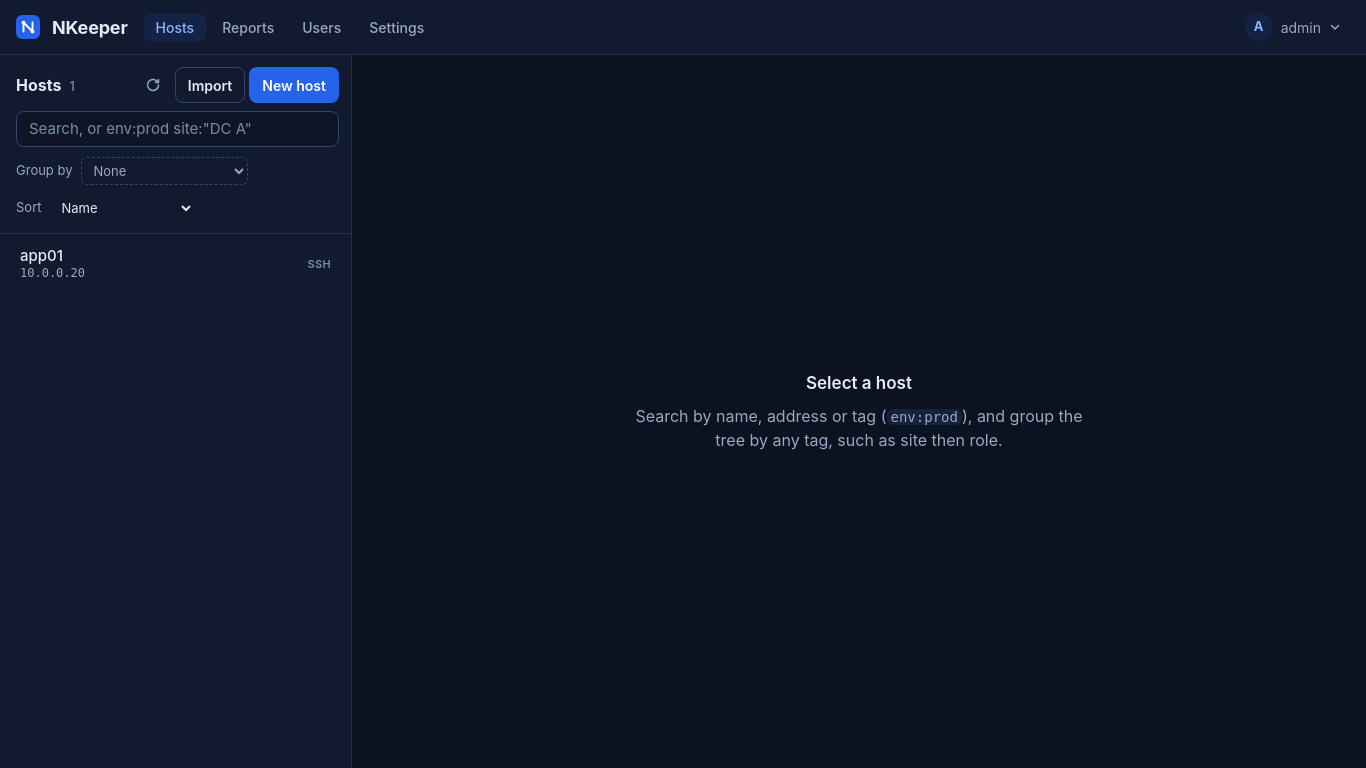
Test: storage (iSCSI, multipath, DRBD) › brings a DRBD resource up straight away, and says when no storage tools are installed
Right-click the button "app01 10.0.0.20 SSH" at (41, 256), box [8,242,343,286]
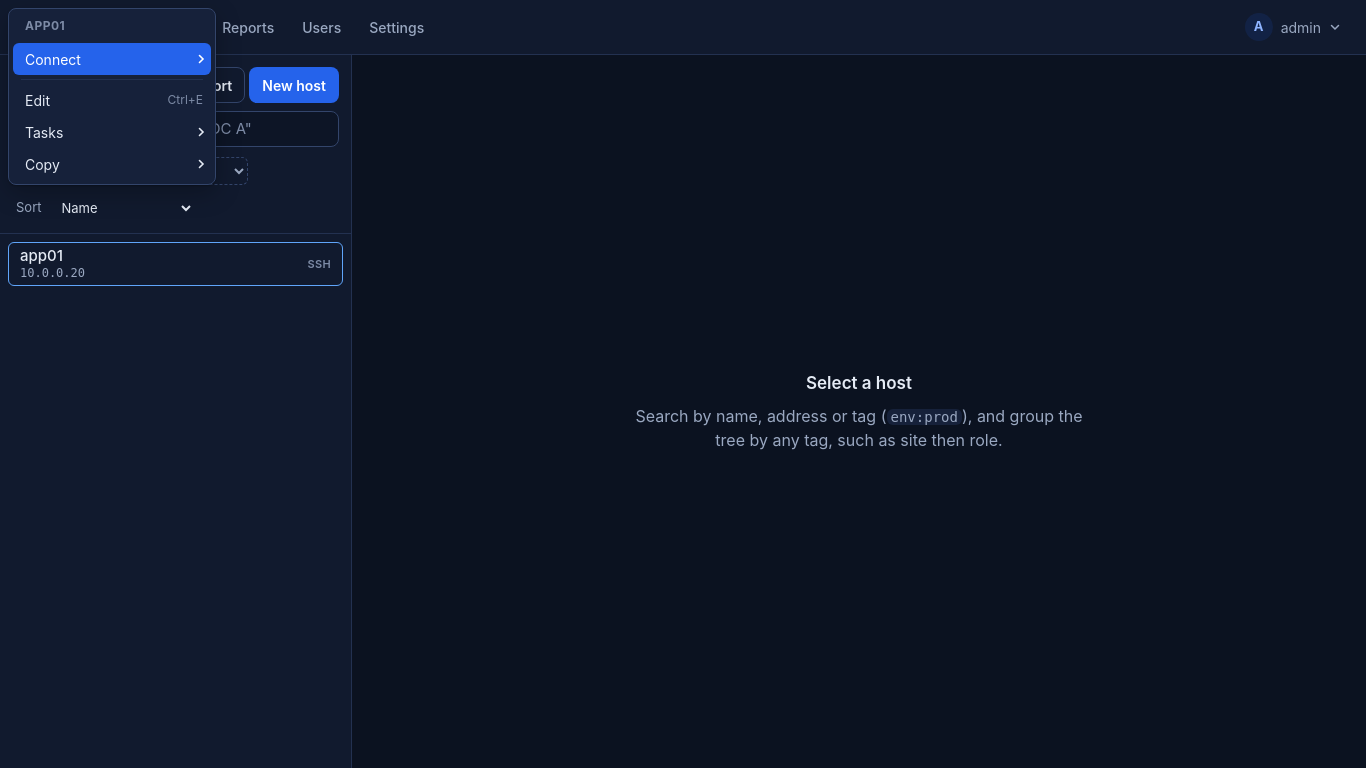
Hover over the menu item "Connect" at (112, 59), box [13,43,211,75]
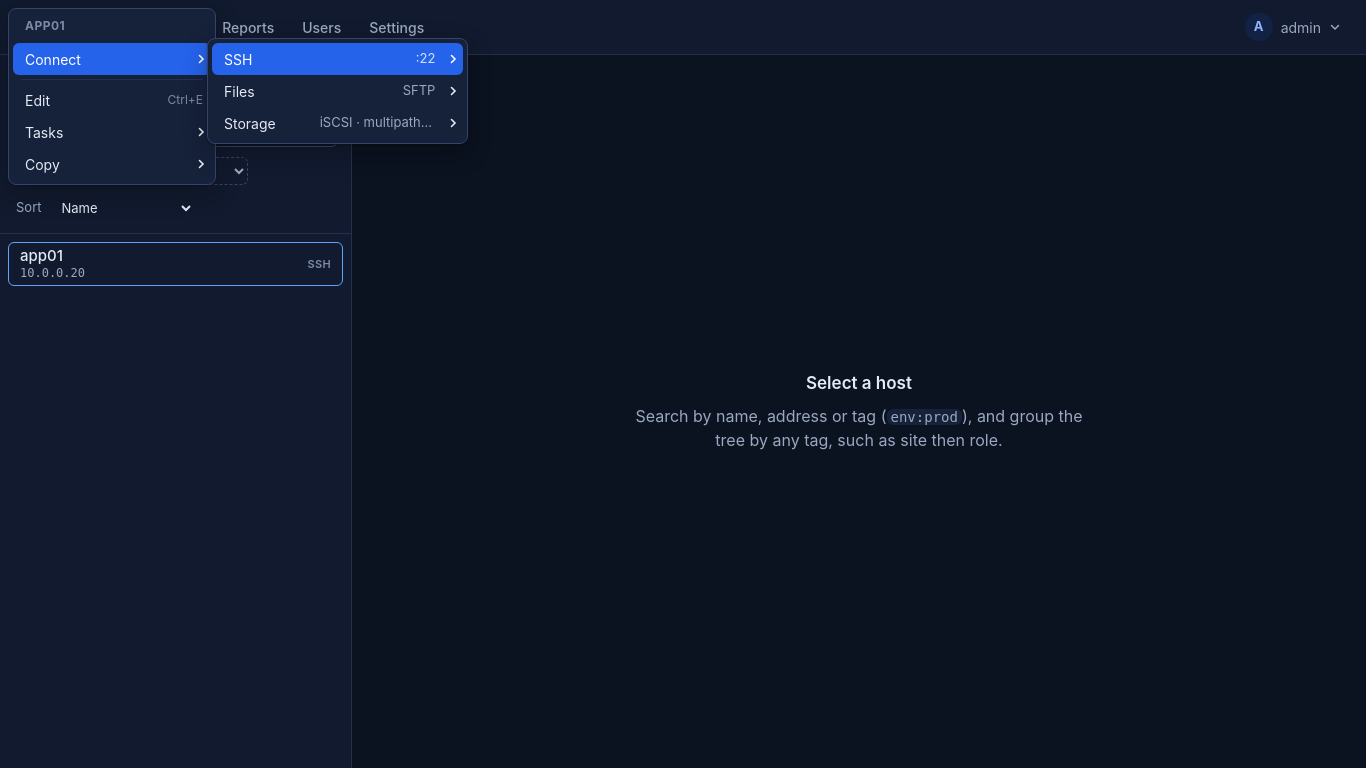
Hover over the menu item "Storage iSCSI · multipath · DRBD" at (338, 123), box [212,107,463,139]
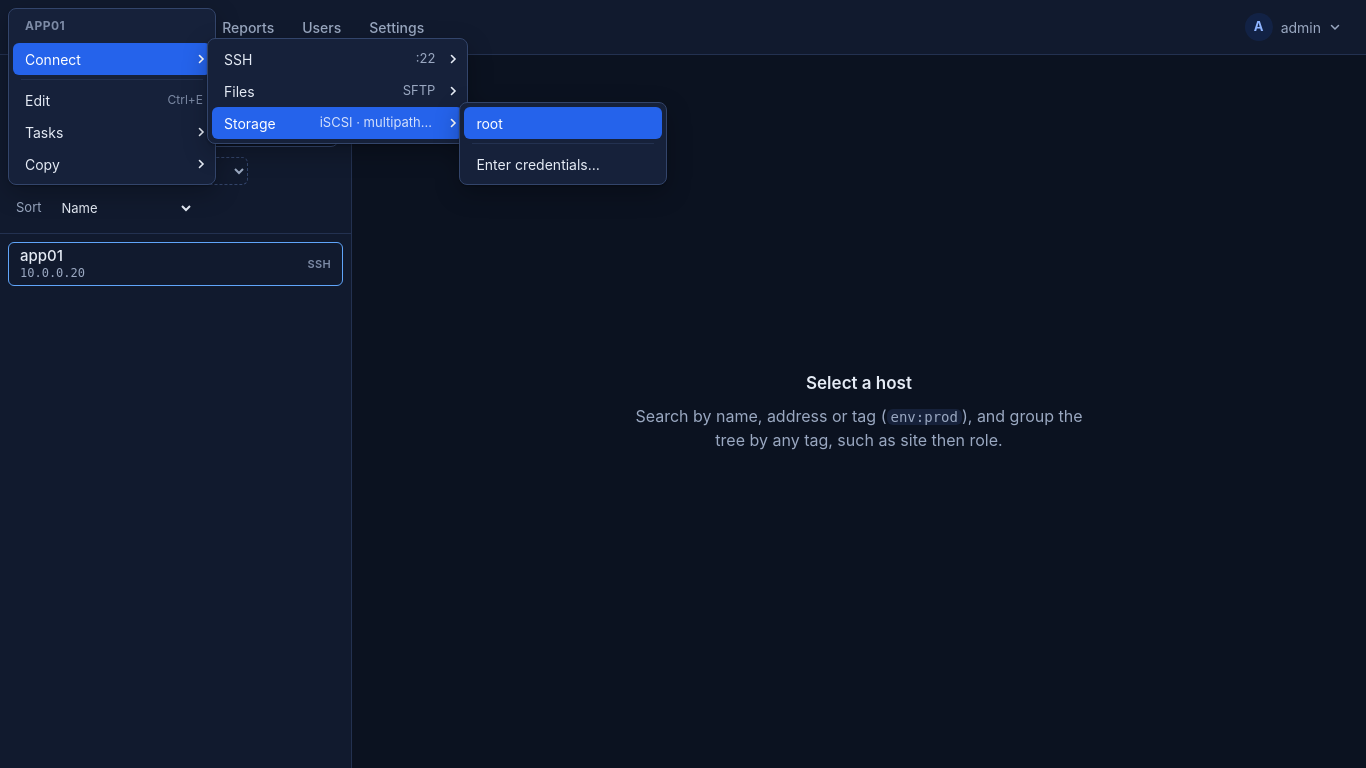
Click the menu item "root" at (563, 123), box [464,107,662,139]
(page scrolled)
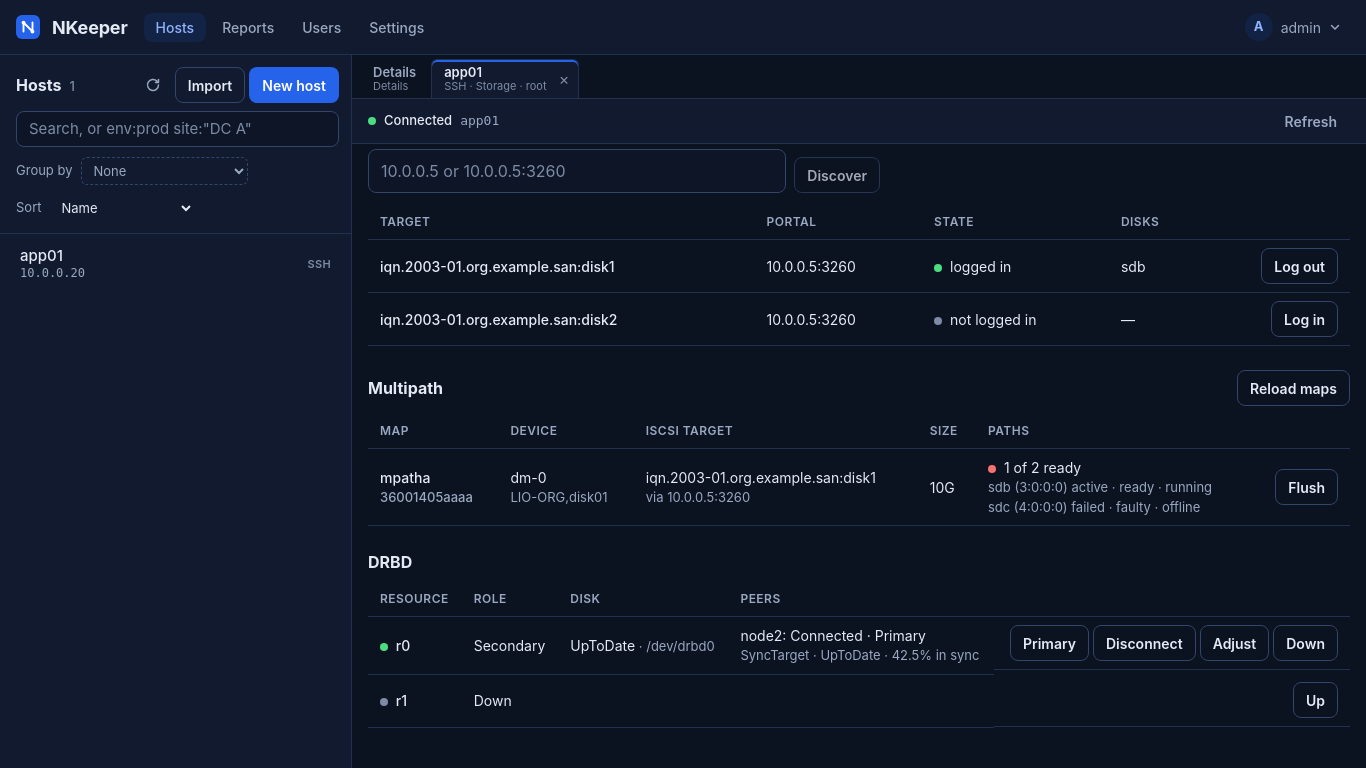
Click the button "Up" at (1316, 700), box [1293,682,1338,718]
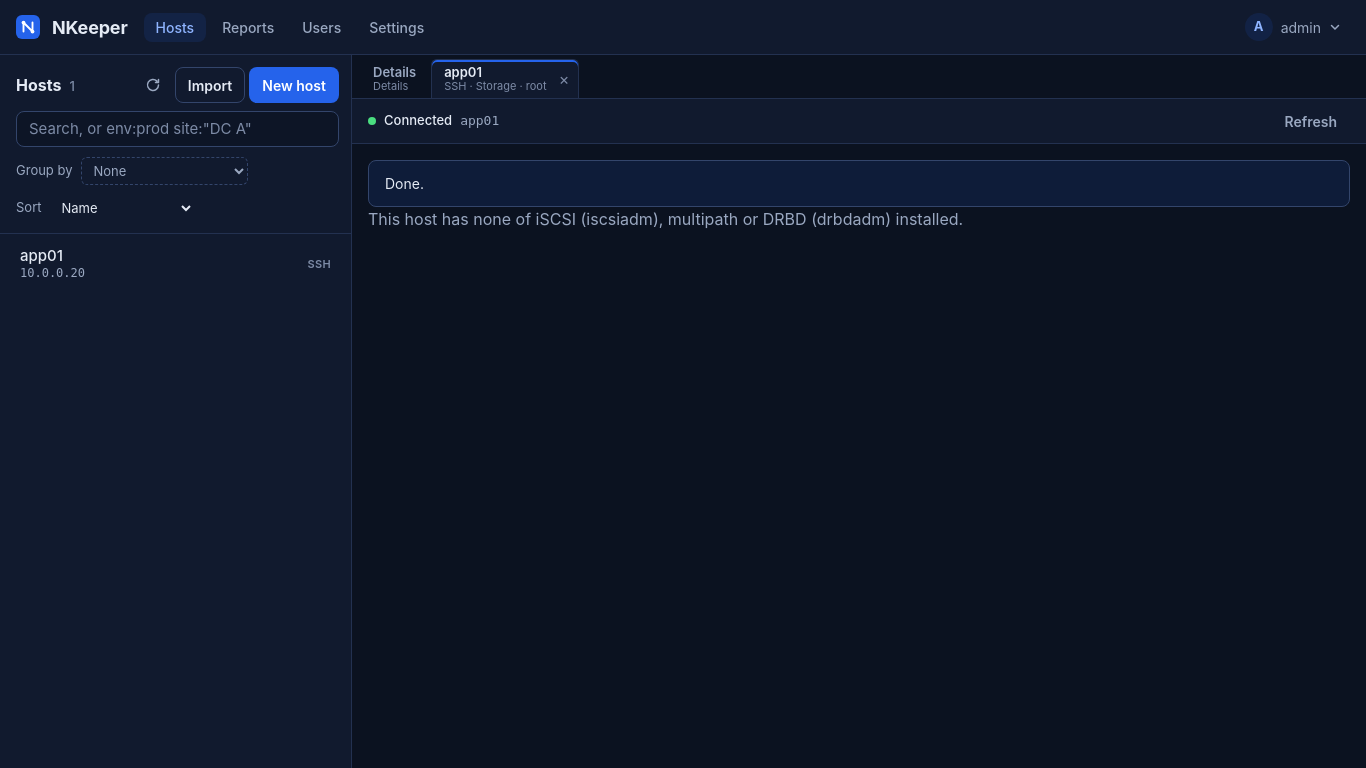
expect the text "has none of iSCSI" is shown: met, box [368,209,963,229]
